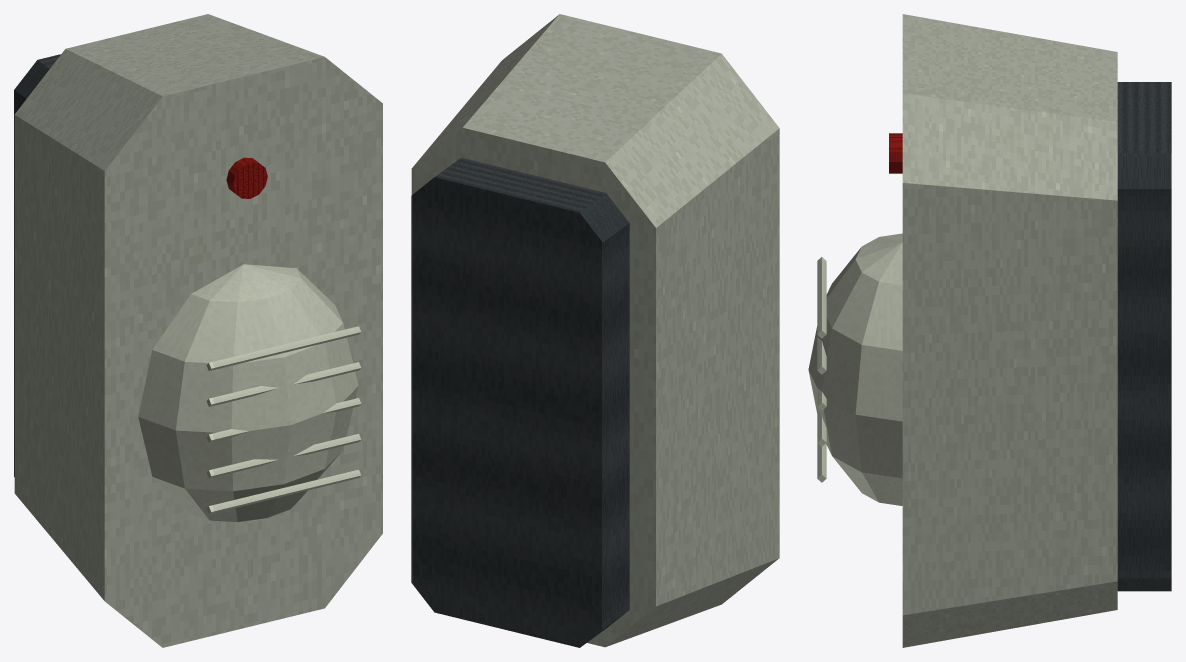
Rendered from blender_motion_sensor_1.glb.
3 views of the same model, side by side, from view 1: azimuth 30°, elevation 25°; view 2: azimuth 150°, elevation 25°; view 3: azimuth 270°, elevation 25° (orthographic).
Visible parts, largest first — view 1: blender_motion_sensor_1; view 2: blender_motion_sensor_1; view 3: blender_motion_sensor_1.
Part boxes in pixels (<box>): blender_motion_sensor_1: <box>14,14,382,647</box>; blender_motion_sensor_1: <box>411,14,779,647</box>; blender_motion_sensor_1: <box>808,14,1171,647</box>.
Size of the model in its own units: 0.048 by 0.091 by 0.054.
4 materials, 4 textured.
